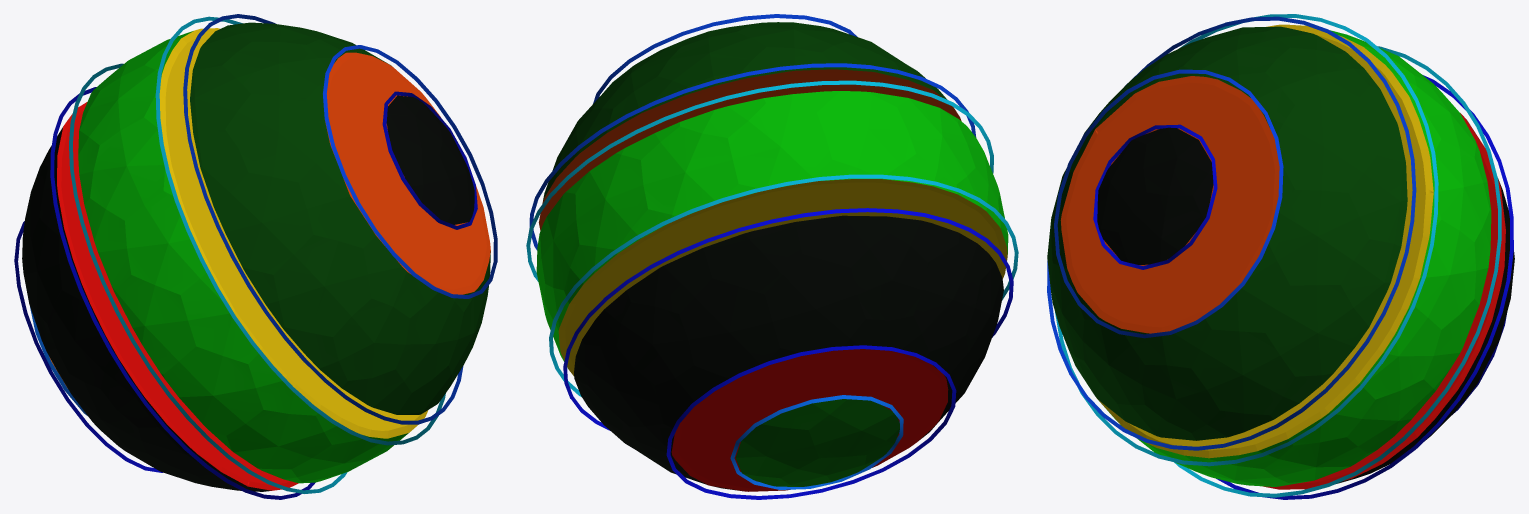
3 renders of one model, left to right at view 1: azimuth 30°, elevation 25°; view 2: azimuth 150°, elevation 25°; view 3: azimuth 270°, elevation 25°, orthographic.
Visible parts, largest first — view 1: Sphere_A; view 2: Sphere_A; view 3: Sphere_A.
Boxes of the visible parts, x1,y1,x2,y2 form: Sphere_A: (14,14,497,499); Sphere_A: (526,14,1018,499); Sphere_A: (1047,14,1514,499).
Bounding box in the file's own units: 1465 × 1474 × 1472.
